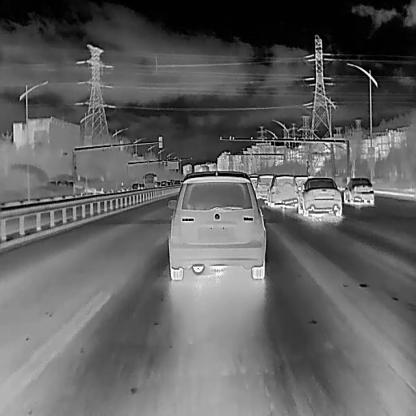car: (166, 169, 266, 279), (297, 177, 342, 216), (266, 173, 298, 206), (343, 176, 374, 205), (254, 172, 274, 199), (142, 172, 157, 189), (132, 182, 139, 190), (160, 179, 167, 187), (173, 179, 181, 186), (167, 180, 172, 186), (157, 181, 161, 187), (139, 183, 142, 188), (142, 182, 144, 189)
